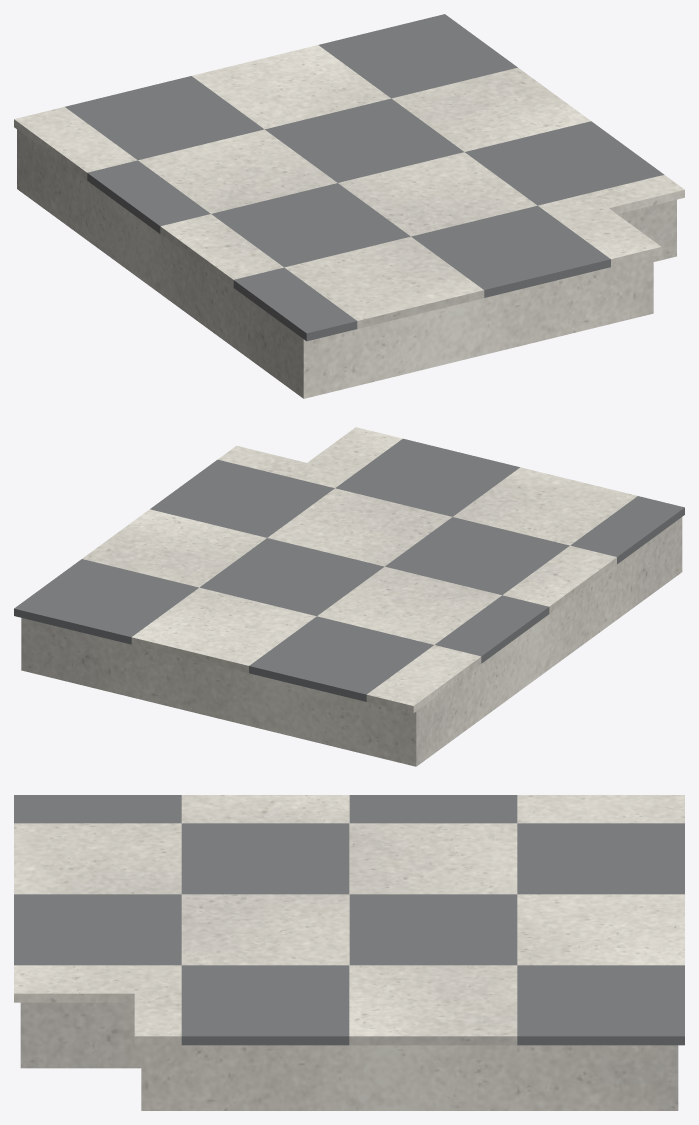
Rendered from floor_marble_u_e1000_h4.glb.
3 renders of one model, top to bottom at view 1: azimuth 30°, elevation 25°; view 2: azimuth 150°, elevation 25°; view 3: azimuth 270°, elevation 25°, orthographic. The views are drawn at different scales.
Visible parts, largest first — view 1: floor_marble_u_e1000_h4_slate, floor_marble_u_e1000_h4_marble, floor_marble_u_e1000_h4_plaster; view 2: floor_marble_u_e1000_h4_slate, floor_marble_u_e1000_h4_marble, floor_marble_u_e1000_h4_plaster; view 3: floor_marble_u_e1000_h4_slate, floor_marble_u_e1000_h4_marble, floor_marble_u_e1000_h4_plaster.
Part boxes in pixels (box(x1,y1,x2,y2)): floor_marble_u_e1000_h4_slate: box(65, 14, 663, 341); floor_marble_u_e1000_h4_marble: box(14, 45, 684, 328); floor_marble_u_e1000_h4_plaster: box(17, 129, 676, 398); floor_marble_u_e1000_h4_slate: box(14, 438, 684, 701); floor_marble_u_e1000_h4_marble: box(82, 427, 637, 713); floor_marble_u_e1000_h4_plaster: box(21, 517, 682, 766); floor_marble_u_e1000_h4_slate: box(14, 795, 684, 1045); floor_marble_u_e1000_h4_marble: box(14, 795, 684, 1045); floor_marble_u_e1000_h4_plaster: box(20, 1002, 678, 1110).
Bounding box in the file's own units: 1.7 × 0.255 × 2.
Materials: 3 (2 with a texture image).
